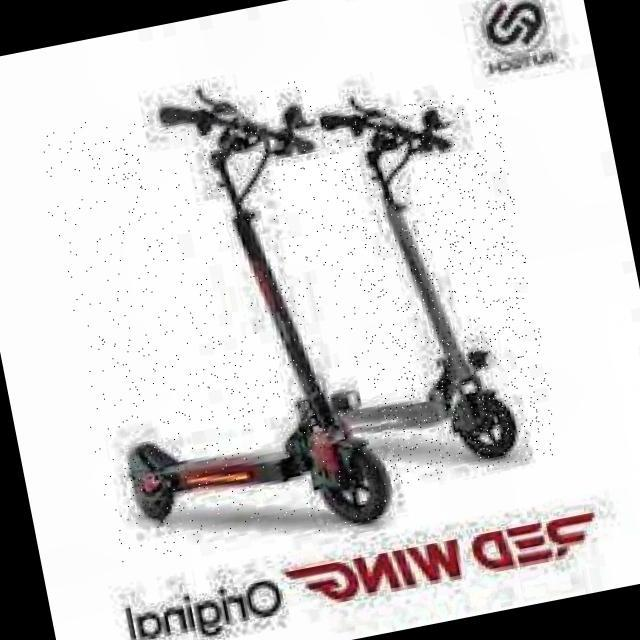bike: (126, 77, 519, 527)
